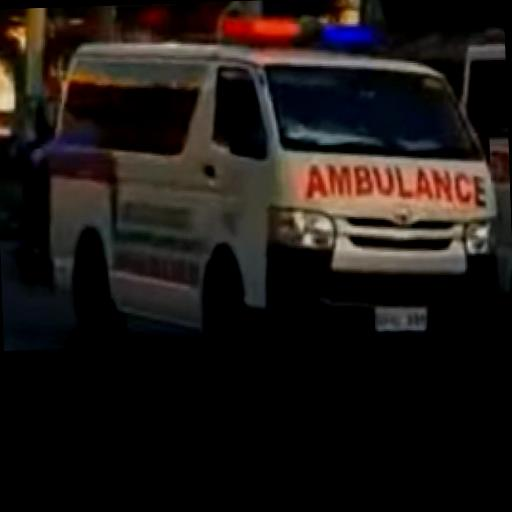Police car: (30, 11, 500, 352)
